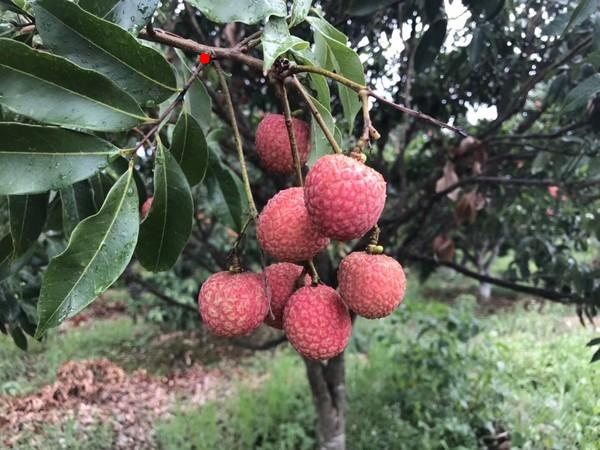litchi: (200, 114, 401, 355)
stem: (137, 21, 302, 95)
